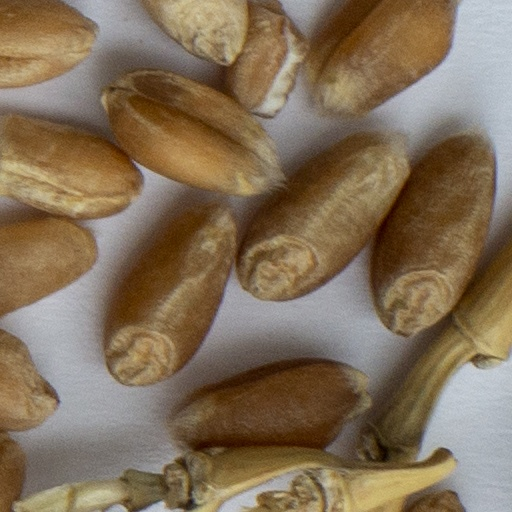Wheat-grain-damaged-poly: (227, 1, 306, 116)
